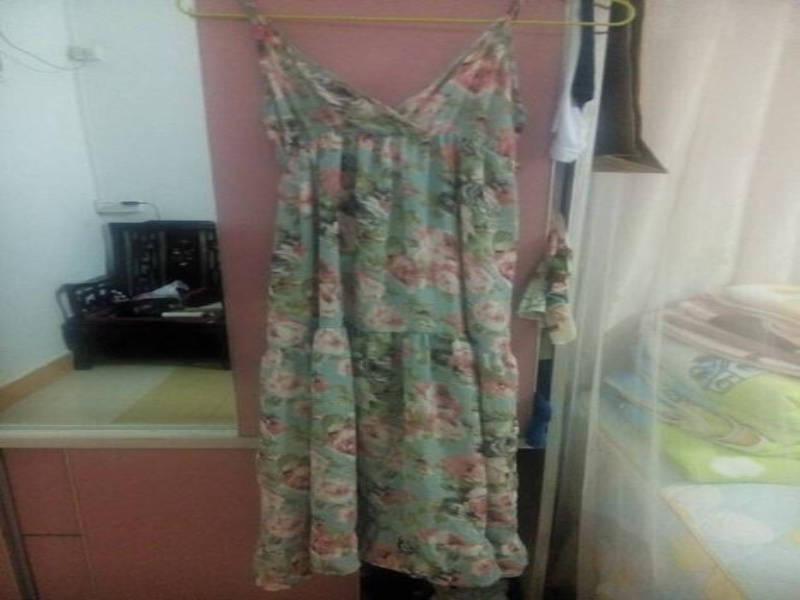sling_dress: (238, 0, 528, 593)
